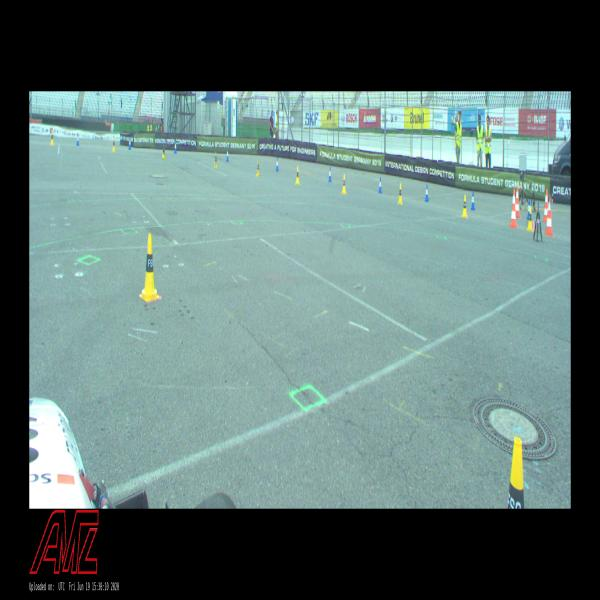blue_cone: (471, 191, 475, 210), (425, 184, 429, 201), (378, 177, 382, 193), (328, 167, 332, 182), (527, 200, 530, 219), (76, 132, 80, 146), (128, 138, 132, 150), (226, 148, 229, 162), (174, 142, 177, 153), (276, 157, 278, 172)
large_orange_cone: (545, 196, 553, 236), (510, 189, 517, 228), (543, 189, 548, 222), (516, 185, 520, 218)
yellow_cone: (140, 234, 160, 302), (508, 438, 524, 508), (527, 206, 533, 231), (462, 195, 468, 218), (398, 183, 403, 204), (342, 174, 346, 194), (296, 166, 300, 185), (50, 130, 54, 146), (112, 136, 116, 152), (214, 152, 218, 168), (256, 160, 260, 176), (162, 144, 166, 159)
